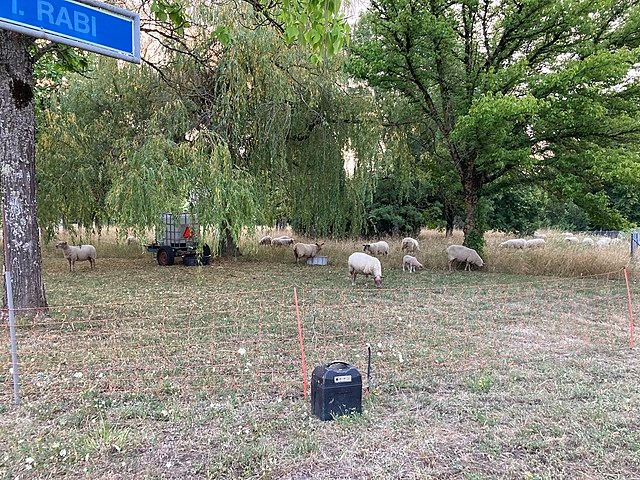grazing: (444, 243, 487, 275), (347, 252, 384, 289), (401, 257, 424, 275)
standing: (56, 240, 99, 270), (295, 241, 327, 264)
